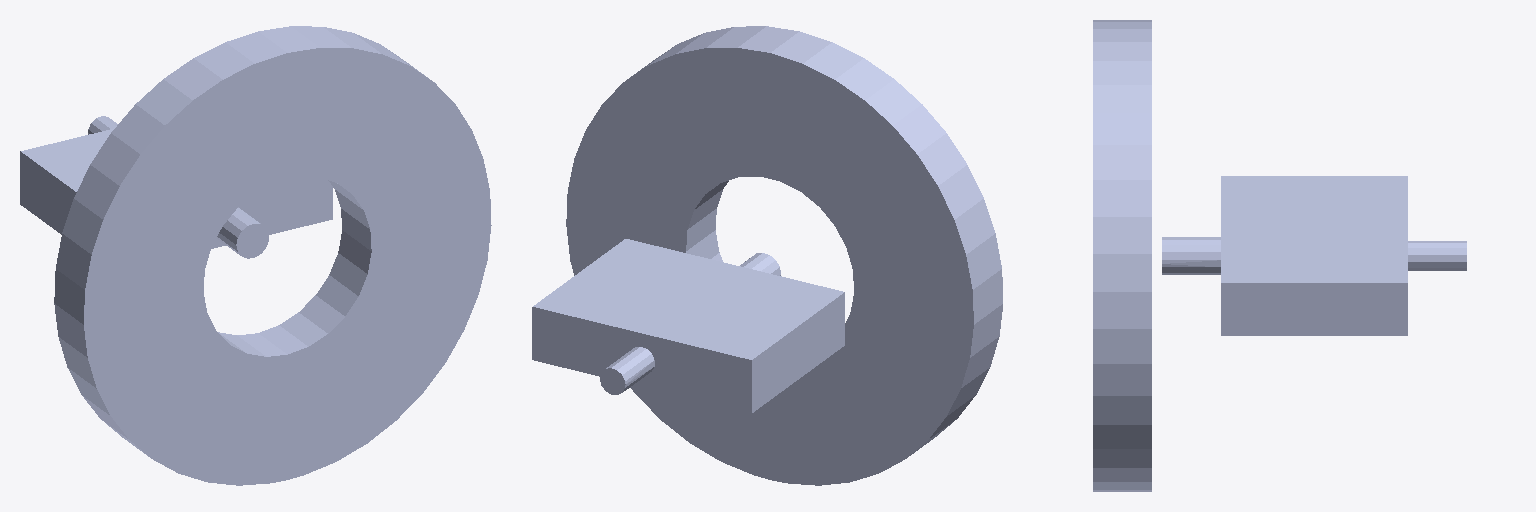
The robot description file, URDF, robot "Montaj1":
<!-- <?xml version="1.0" encoding="utf-8"?> -->
<!-- This URDF was automatically created by SolidWorks to URDF Exporter! Originally created by [author] ([email redacted]) 
     Commit Version: 1.6.0-4-g7f85cfe  Build Version: 1.6.7995.38578
     For more information, please see http://wiki.ros.org/sw_urdf_exporter -->
<robot
  name="Montaj1">
  <link
    name="base_link">
    <inertial>
      <origin
        xyz="-0.0013654 -0.00019199 -0.0012332"
        rpy="0 0 0" />
      <mass
        value="0.014123" />
      <inertia
        ixx="1.4815E-06"
        ixy="-1.6467E-22"
        ixz="8.723E-25"
        iyy="2.2072E-06"
        iyz="7.5505E-23"
        izz="3.4597E-06" />
    </inertial>
    <visual>
      <origin
        xyz="0 0 0"
        rpy="0 0 0" />
      <geometry>
        <mesh
          filename="package://urdf/Montaj1/meshes/base_link.STL" />
      </geometry>
      <material
        name="">
        <color
          rgba="0.79216 0.81961 0.93333 1" />
      </material>
    </visual>
    <collision>
      <origin
        xyz="0 0 0"
        rpy="0 0 0" />
      <geometry>
        <mesh
          filename="package://urdf/Montaj1/meshes/base_link.STL" />
      </geometry>
    </collision>
  </link>
  <link
    name="wheelleft_link">
    <inertial>
      <origin
        xyz="-1.4095E-17 0.005 -3.2526E-18"
        rpy="0 0 0" />
      <mass
        value="0.041634" />
      <inertia
        ixx="1.9805E-05"
        ixy="-2.268E-38"
        ixz="4.4412E-39"
        iyy="3.8915E-05"
        iyz="1.2785E-21"
        izz="1.9805E-05" />
    </inertial>
    <visual>
      <origin
        xyz="0 0 0"
        rpy="0 0 0" />
      <geometry>
        <mesh
          filename="package://urdf/Montaj1/meshes/wheelleft_link.STL" />
      </geometry>
      <material
        name="">
        <color
          rgba="0.79216 0.81961 0.93333 1" />
      </material>
    </visual>
    <collision>
      <origin
        xyz="0 0 0"
        rpy="0 0 0" />
      <geometry>
        <mesh
          filename="package://urdf/Montaj1/meshes/wheelleft_link.STL" />
      </geometry>
    </collision>
  </link>
  <joint
    name="wheelleft_joint"
    type="continuous">
    <origin
      xyz="-0.0013654 -0.027601 -0.0012332"
      rpy="3.1416 0 0" />
    <parent
      link="base_link" />
    <child
      link="wheelleft_link" />
    <axis
      xyz="0 1 0" />
  </joint>
</robot>

--- Facts derived from the render (not from the file) ---
Views: 3 orthographic renders of the robot side by side, from view 1: azimuth 30°, elevation 25°; view 2: azimuth 150°, elevation 25°; view 3: azimuth 270°, elevation 25°.
Model Montaj1 with 2 links and 1 joints (1 continuous), rooted at base_link, posed all joints at 0.
Links seen in each view (by area): view 1: wheelleft_link, base_link; view 2: wheelleft_link, base_link; view 3: base_link, wheelleft_link.
Boxes of the visible links, x1=… form: wheelleft_link: x1=54, y1=26, x2=491, y2=485; base_link: x1=20, y1=116, x2=332, y2=258; wheelleft_link: x1=566, y1=26, x2=1002, y2=485; base_link: x1=532, y1=239, x2=844, y2=413; base_link: x1=1162, y1=176, x2=1466, y2=335; wheelleft_link: x1=1093, y1=20, x2=1151, y2=491.
Size in the robot's own frame: 0.0799 by 0.0634 by 0.0799 metres.
Meshes: 2 distinct files referenced, 2 mesh visuals loaded (2 binary STL).